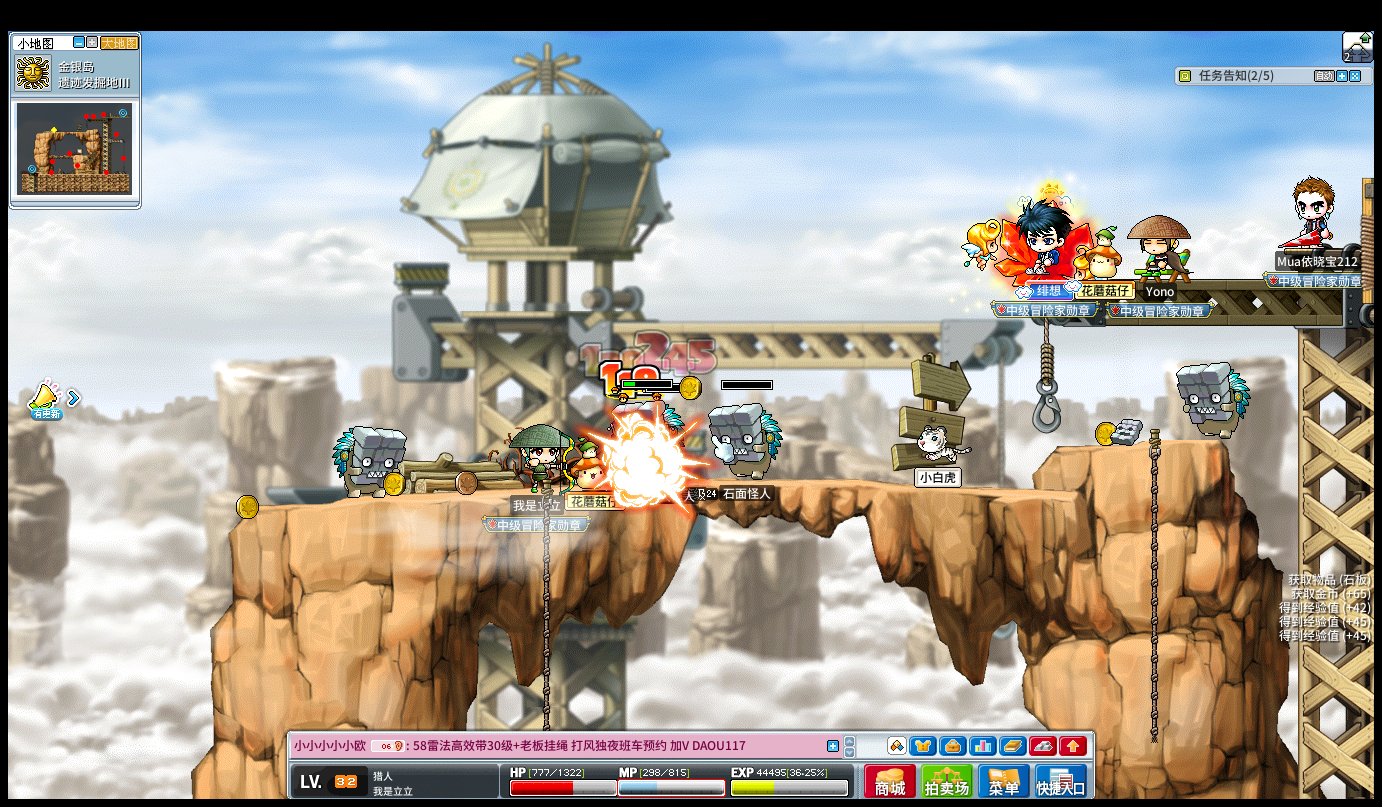floor: (422, 476, 1088, 498), (1056, 434, 1222, 450)
monster: (1176, 362, 1251, 441), (707, 403, 782, 480), (330, 424, 405, 500)
rope: (1145, 426, 1161, 748), (539, 482, 551, 690)
